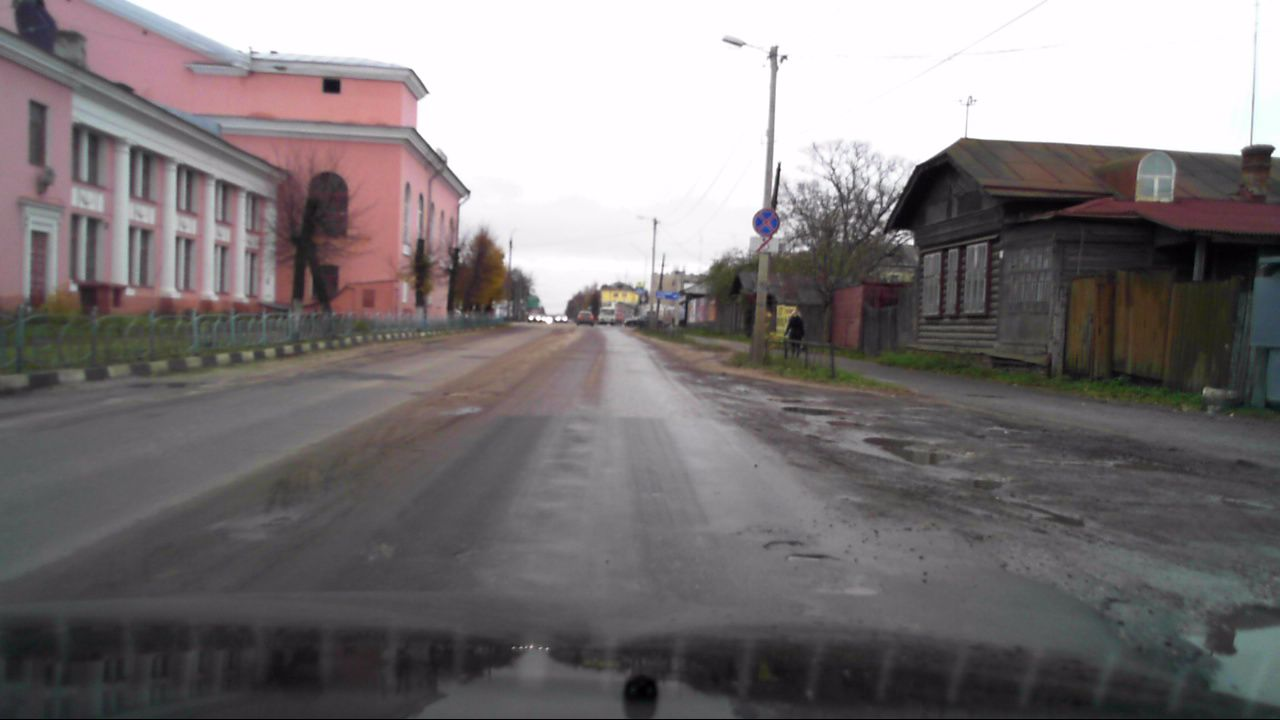No Parking: (752, 208, 780, 237)
